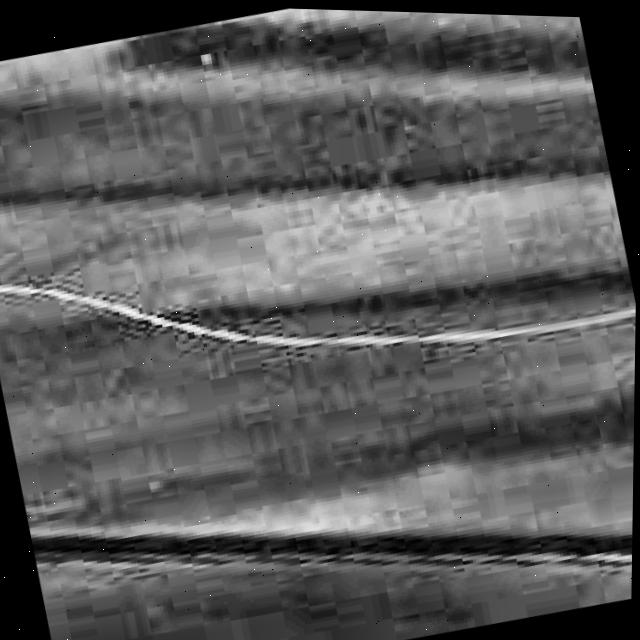door_scratch: (241, 241, 637, 399), (0, 233, 208, 356)
